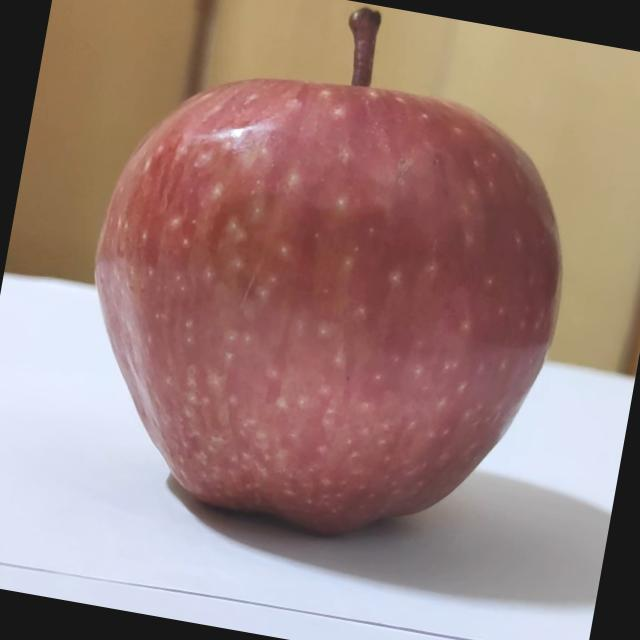apple: (55, 0, 615, 579)
